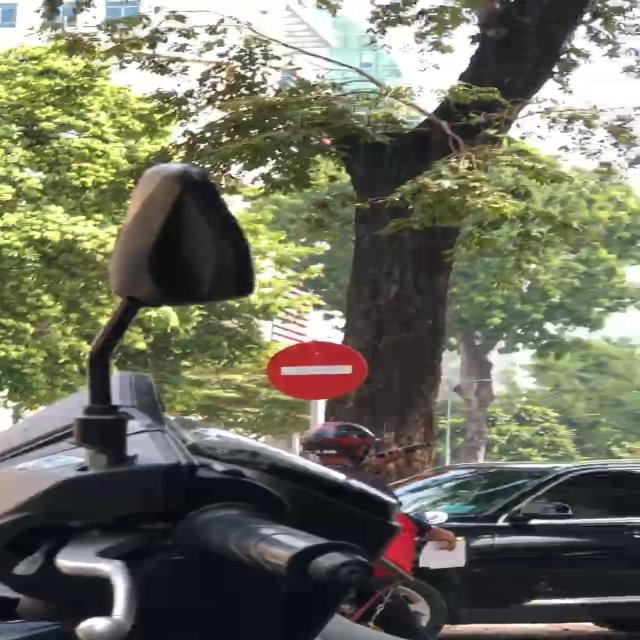Bien bao cam di nguoc chieu: (264, 334, 391, 404)
